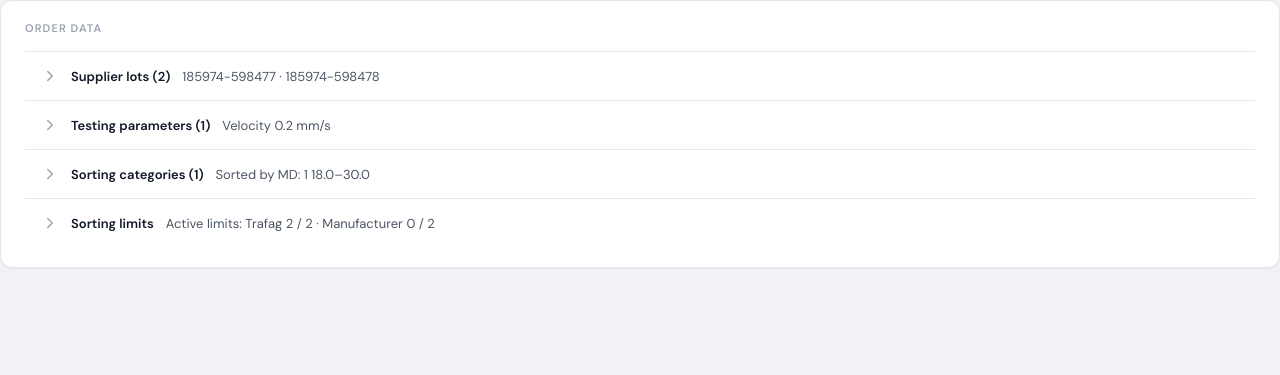
OrderInfoPanel — rozbalovací řádky › all rows collapsed with a summary; click expands
The width and height of the screenshot is (1280, 375).
Click the button "Testing parameters (1) Velocity 0.2 mm/s" at (141, 125), box [25,101,1255,149]
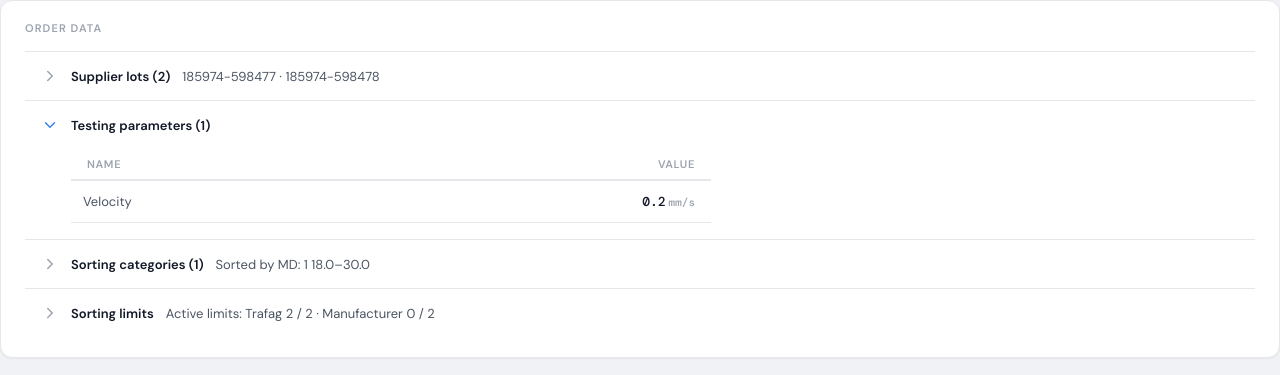
Check: the button "Testing parameters (1)" is expanded, box [25,101,1255,149]
